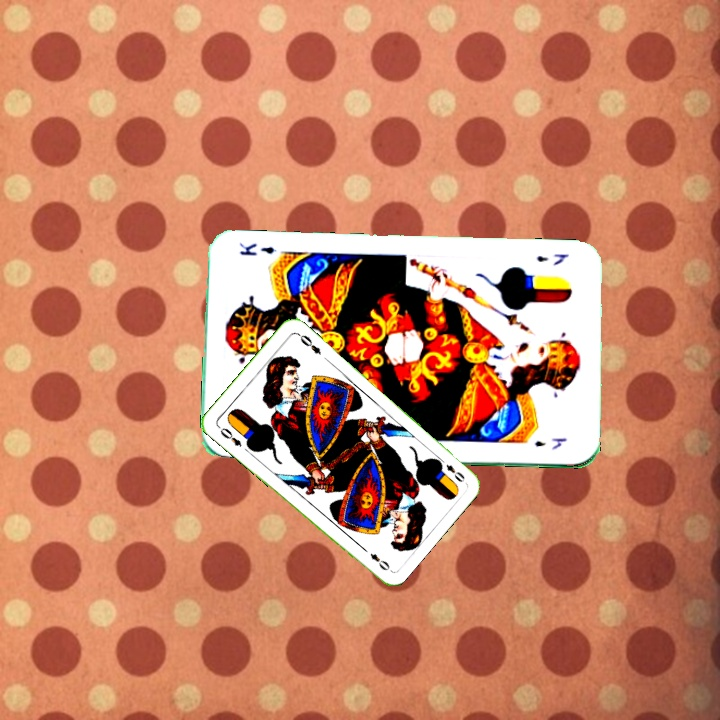EK: (532, 250, 571, 268)
EO: (434, 454, 467, 485), (214, 422, 244, 449)
